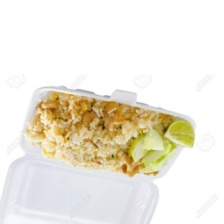foam_box: (0, 81, 202, 224)
